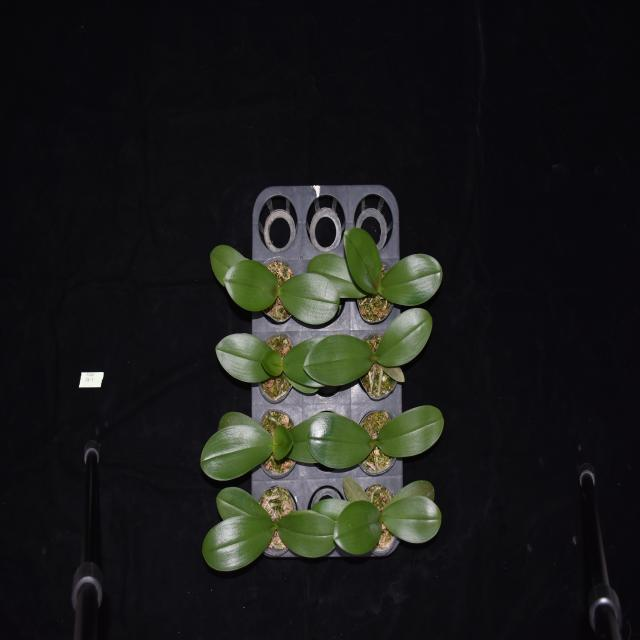leaf: (201, 516, 276, 572), (200, 425, 272, 482), (306, 415, 376, 469), (376, 403, 444, 458), (303, 334, 376, 385), (376, 307, 433, 367), (382, 252, 443, 306), (278, 272, 340, 325), (215, 332, 273, 383), (382, 495, 442, 544), (277, 508, 337, 556), (224, 259, 278, 312), (333, 500, 382, 555), (307, 254, 367, 298), (344, 227, 382, 294), (216, 487, 277, 528), (282, 335, 325, 388), (217, 412, 274, 445), (381, 477, 435, 510), (210, 244, 249, 287), (290, 412, 318, 465), (308, 498, 352, 519), (273, 425, 293, 461), (342, 477, 371, 501), (284, 376, 320, 394), (261, 348, 283, 376), (380, 363, 405, 384)
